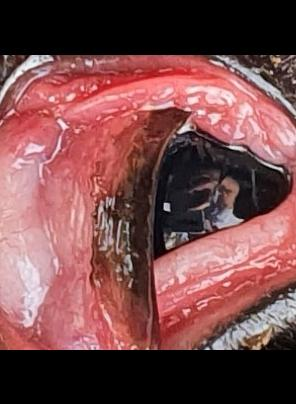eye_membrane: (0, 107, 189, 348), (19, 57, 296, 156), (154, 202, 296, 350), (0, 112, 68, 326)
